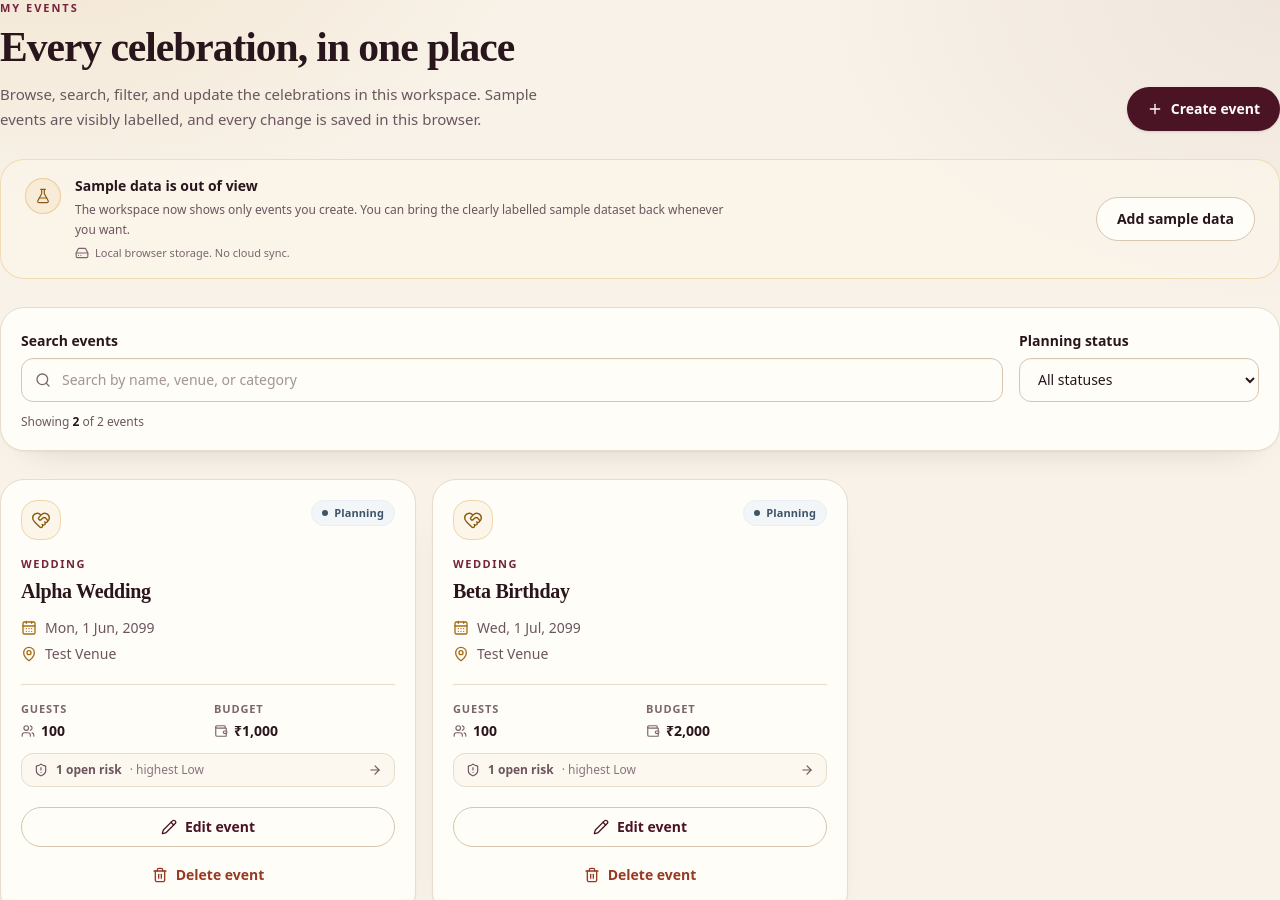
Test case: EventsPage › edits one event, preserves its budget data, and persists without touching another event
Click the button with aria-label "Edit Alpha Wedding" at point(208, 827), box [21,807,395,847]
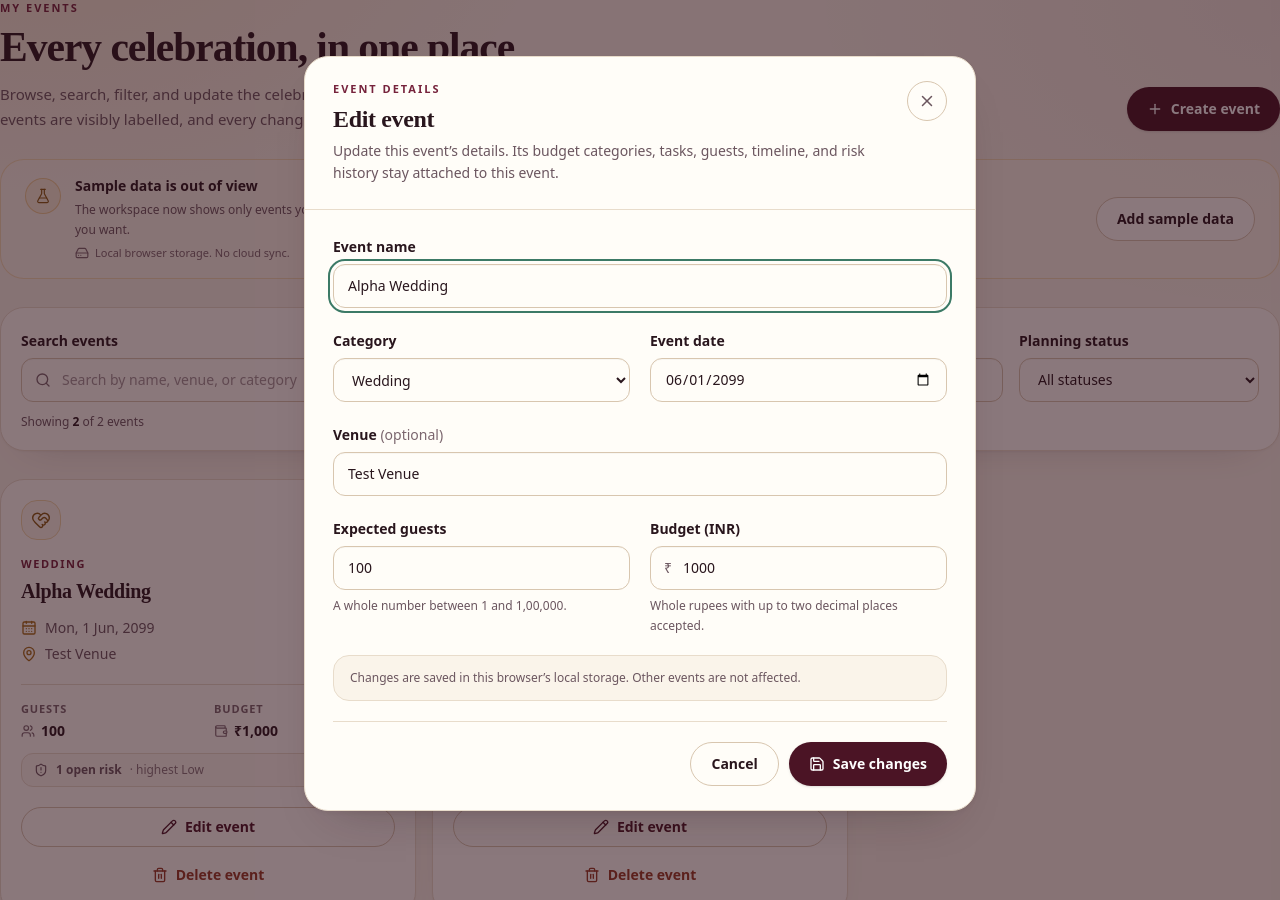
Now the heading "Edit event" is shown, box [333,106,434,132]
Now the field labelled "Event name" holds "Alpha Wedding"
Now the number field labelled "Expected guests" holds "100", box [333,546,630,590]
Replace the text in the field labelled "Event name" with "Alpha Wedding Gala" at point(640, 286), box [333,264,947,308]
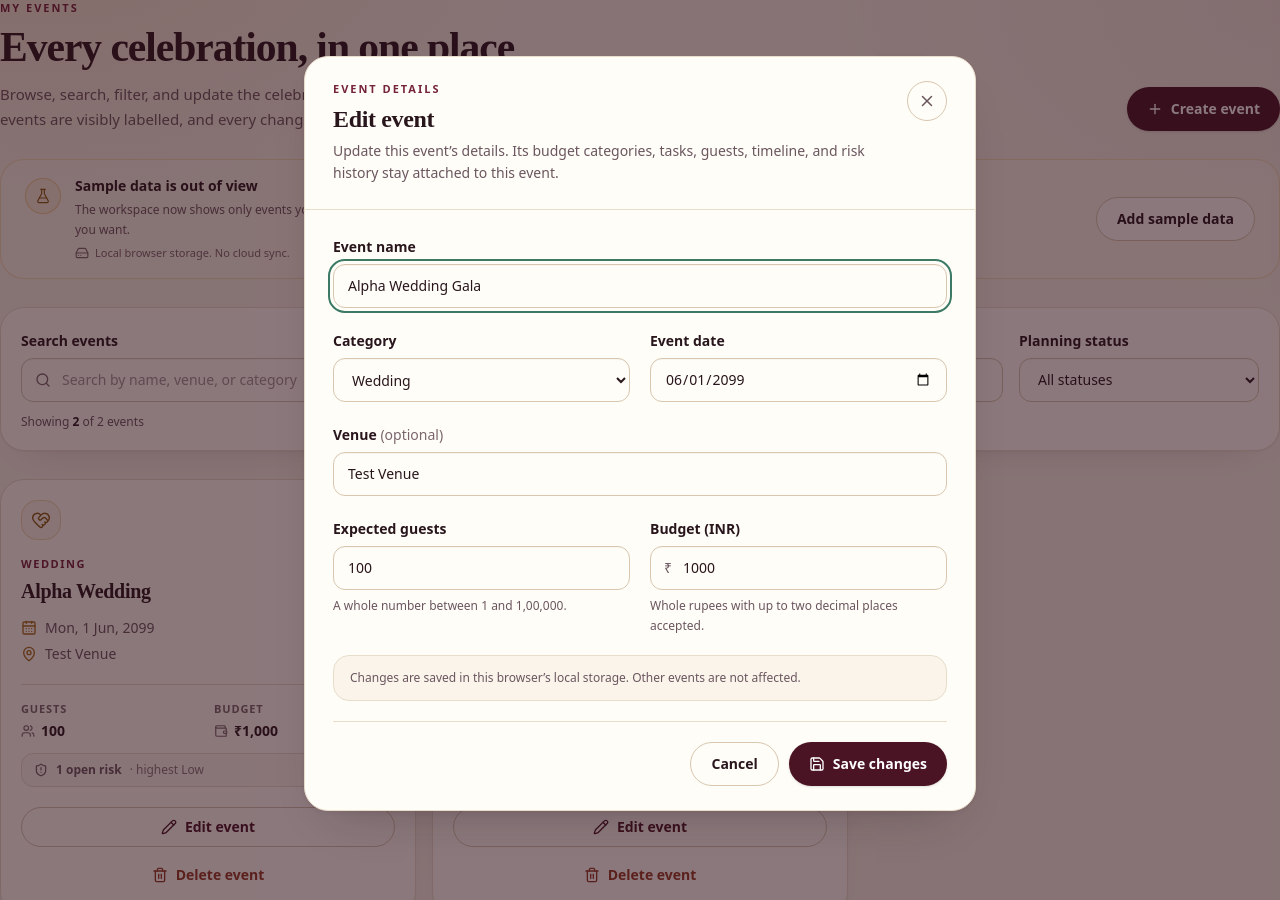
Replace the text in the number field labelled "Expected guests" with "150" at point(482, 568), box [333,546,630,590]
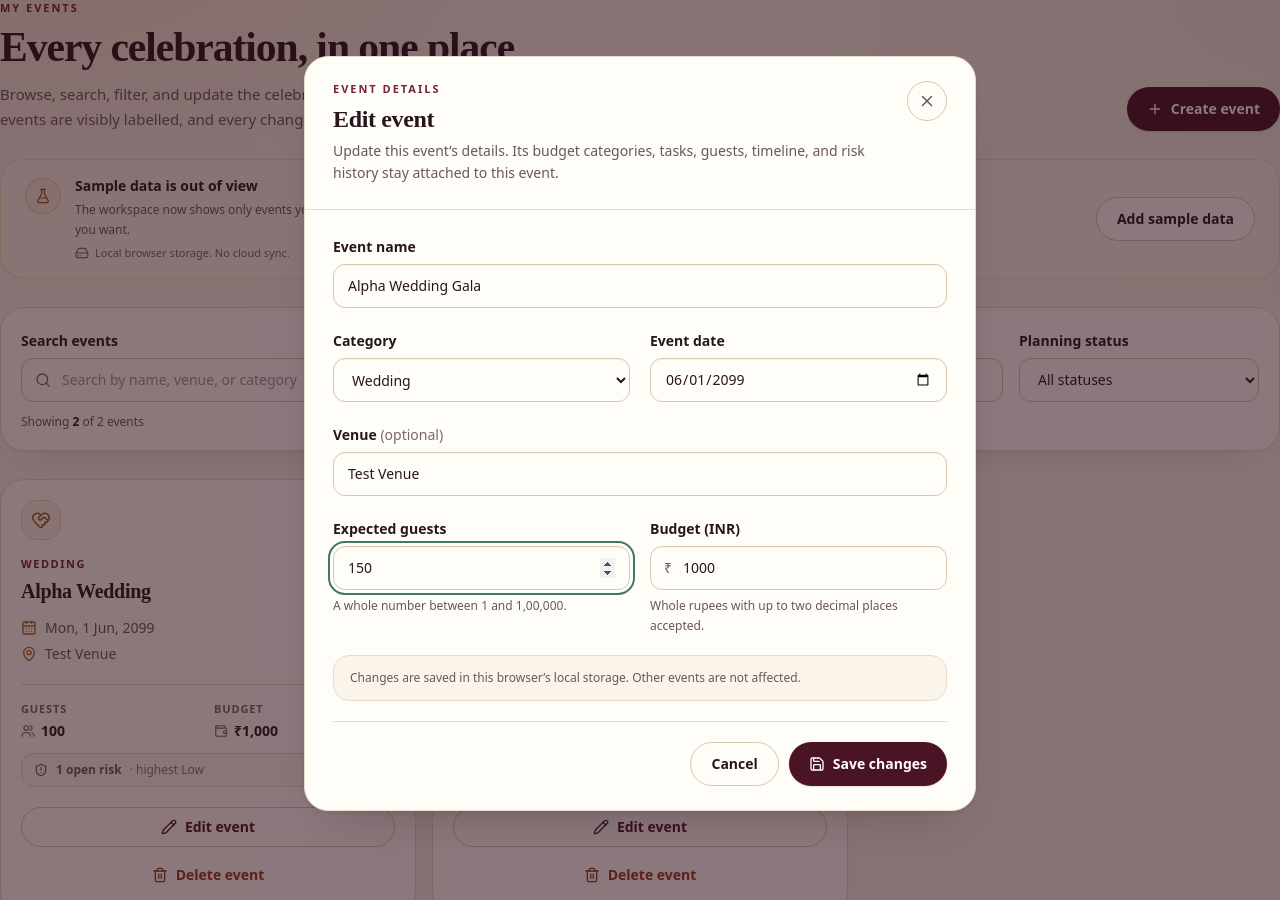
Click the button "Save changes" at point(868, 764), box [789,742,947,786]
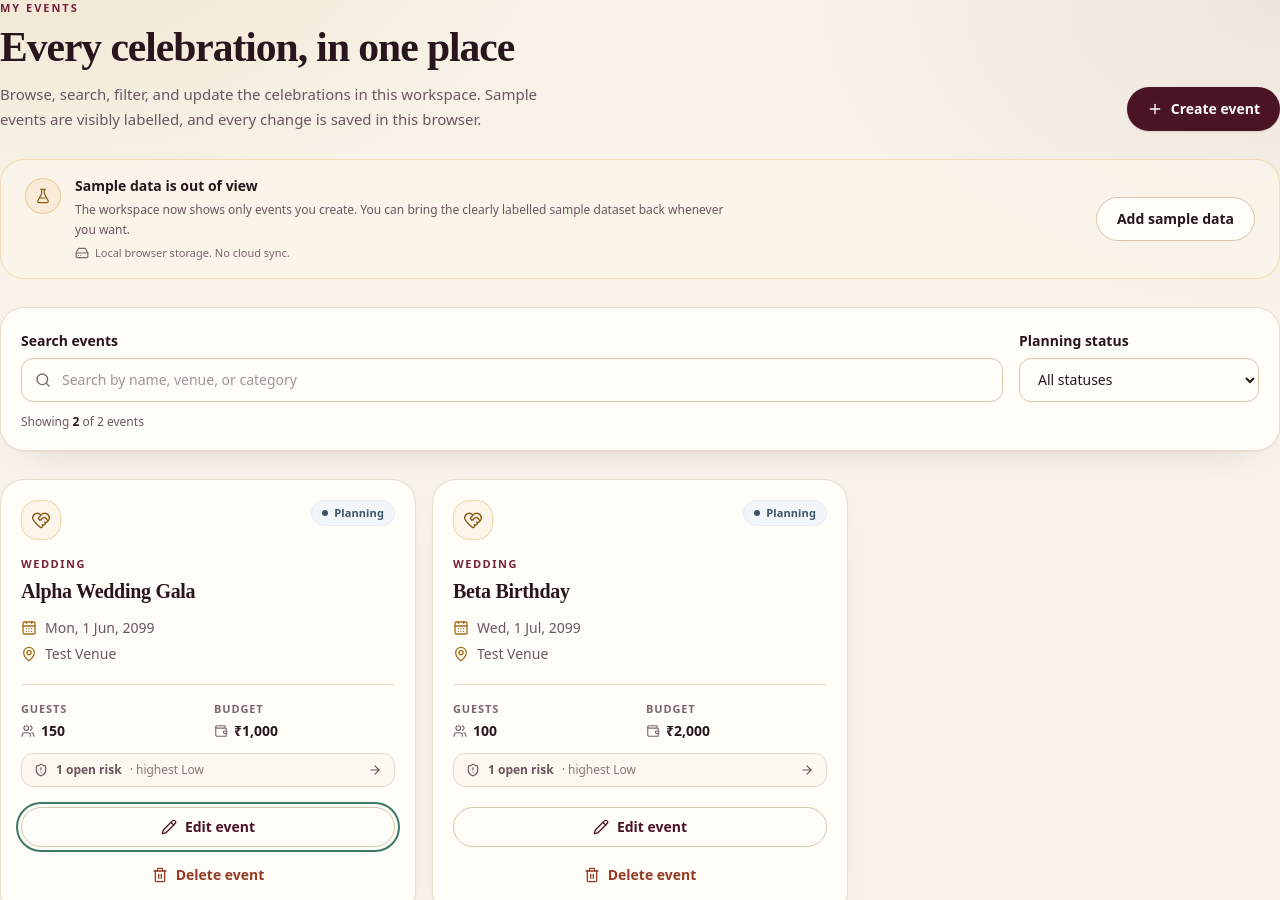
Now the heading "Alpha Wedding Gala" is shown, box [21,580,195,602]
